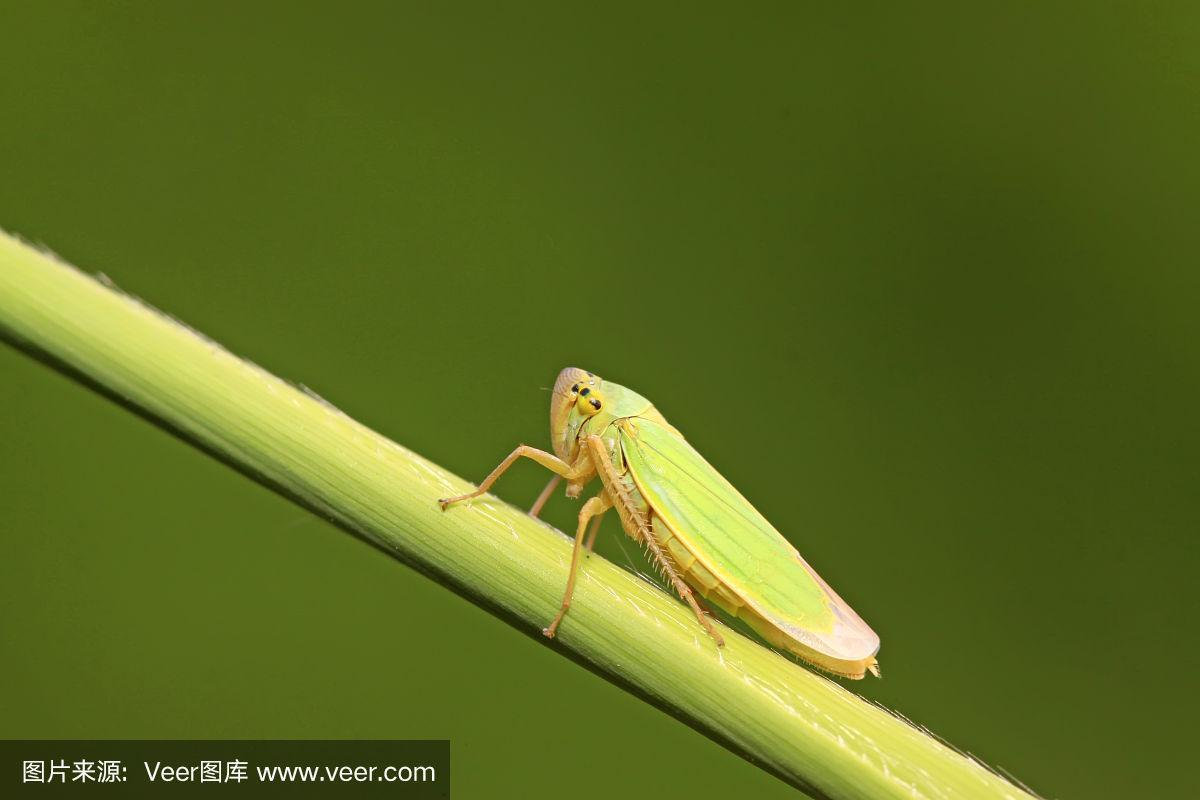Cicadellidae: (479, 364, 881, 683)
